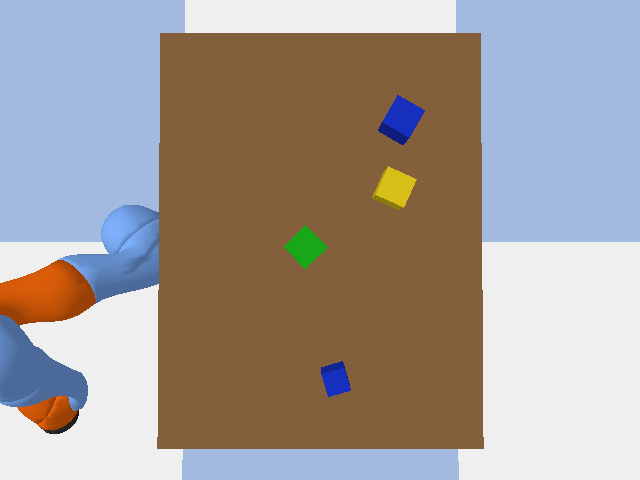blue_obj: (378, 95, 424, 144), (321, 361, 350, 396)
green_obj: (284, 226, 327, 268)
yellow_obj: (372, 166, 416, 209)
